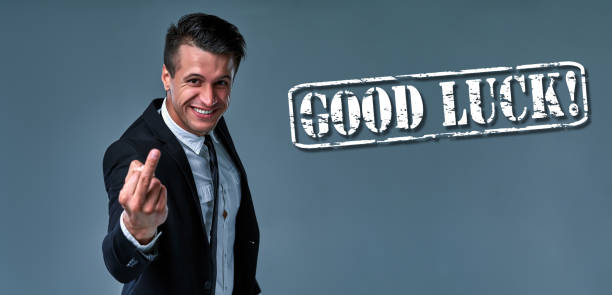insulting_gesture: (117, 146, 169, 230)
